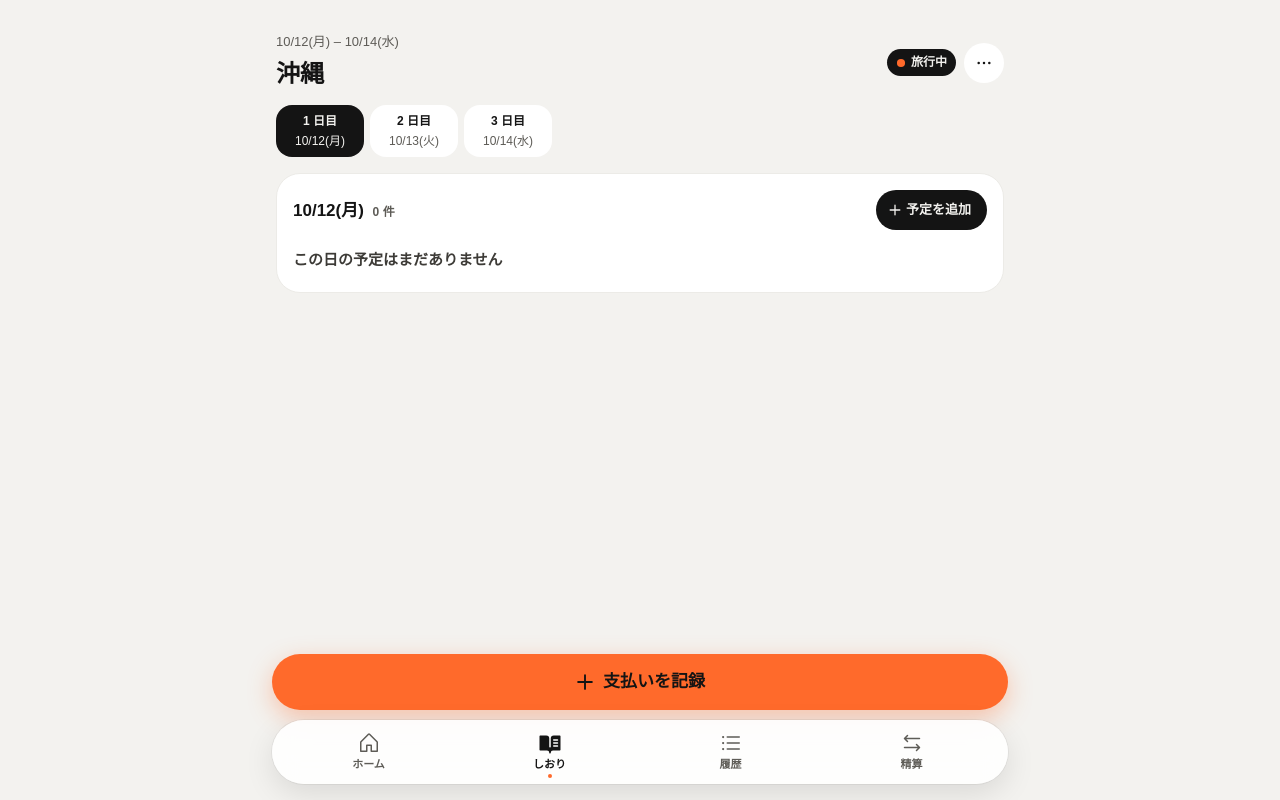
Test: ItineraryScreen (/trips/{id}/itinerary) › W-22: traveling の旅行は確認してから終了する
Expected: the heading "沖縄" is shown, [276, 60, 324, 87]
Click the button named "旅行のメニュー".
click(984, 63)  # box [964, 43, 1004, 83]
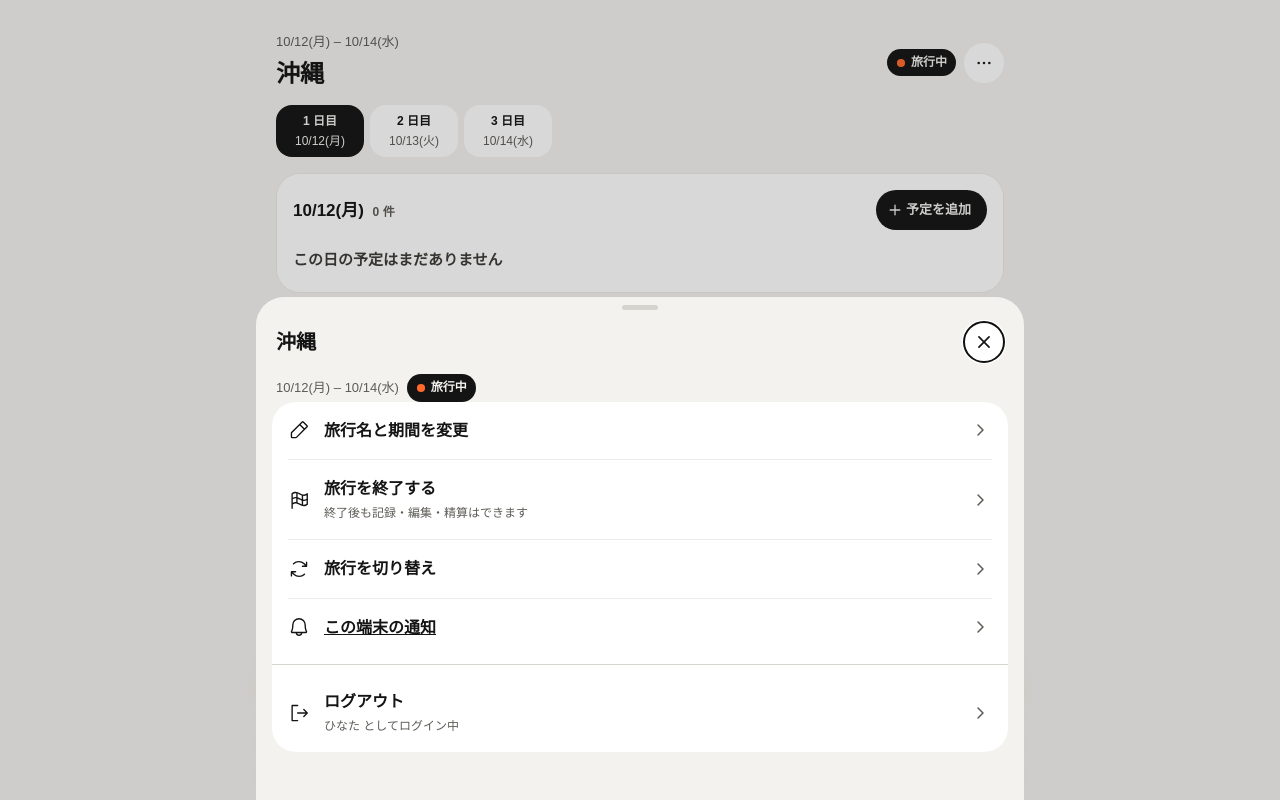
Expected: the button "旅行を終了する 終了後も記録・編集・精算はできます" is shown
Click the button "旅行を終了する 終了後も記録・編集・精算はできます".
click(380, 489)  # box [288, 459, 992, 539]
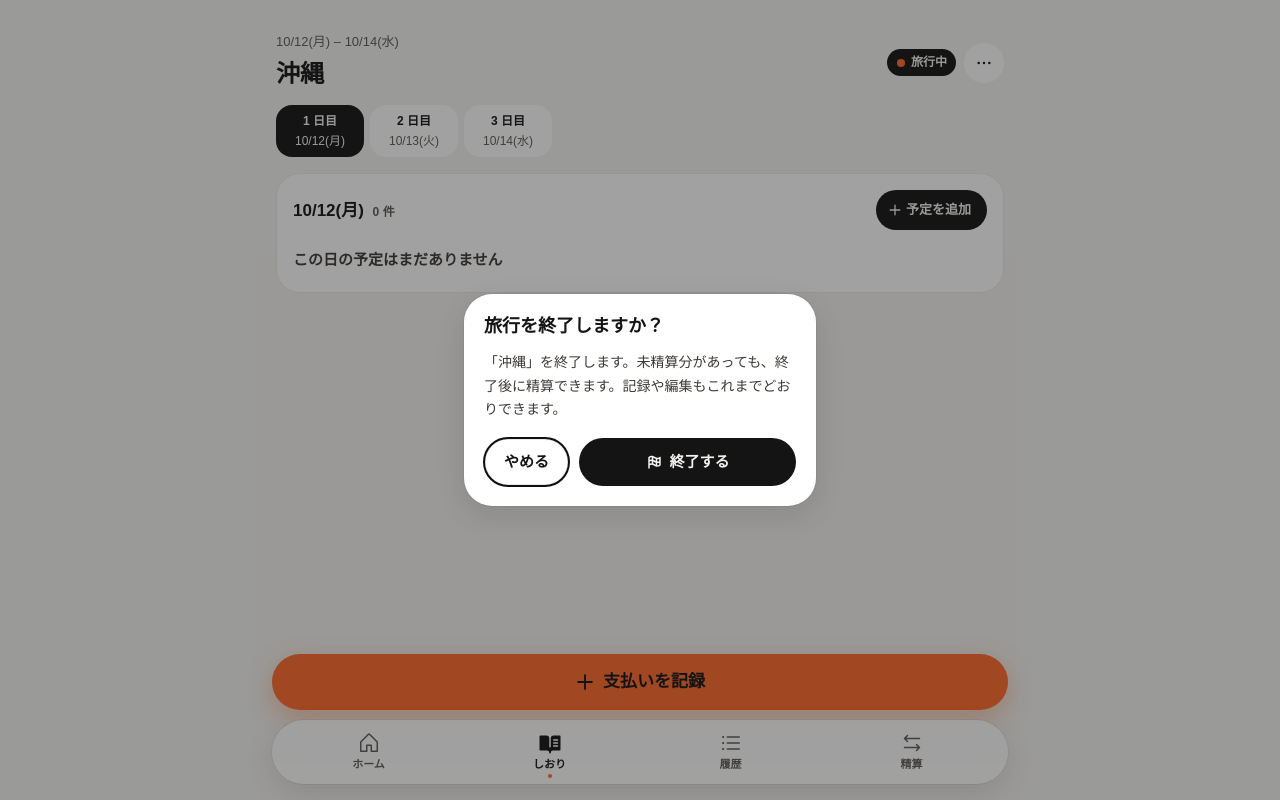
Expected: the button "終了する" is enabled
Expected: the heading "旅行を終了しますか？" is shown, [484, 316, 664, 336]
Expected: the text "「沖縄」を終了します。未精算分があっても、終了後に精算できます。記録や編集もこれまでどおりできます。" is shown, [484, 351, 796, 422]
Click the button "終了する".
click(688, 462)  # box [579, 438, 796, 486]
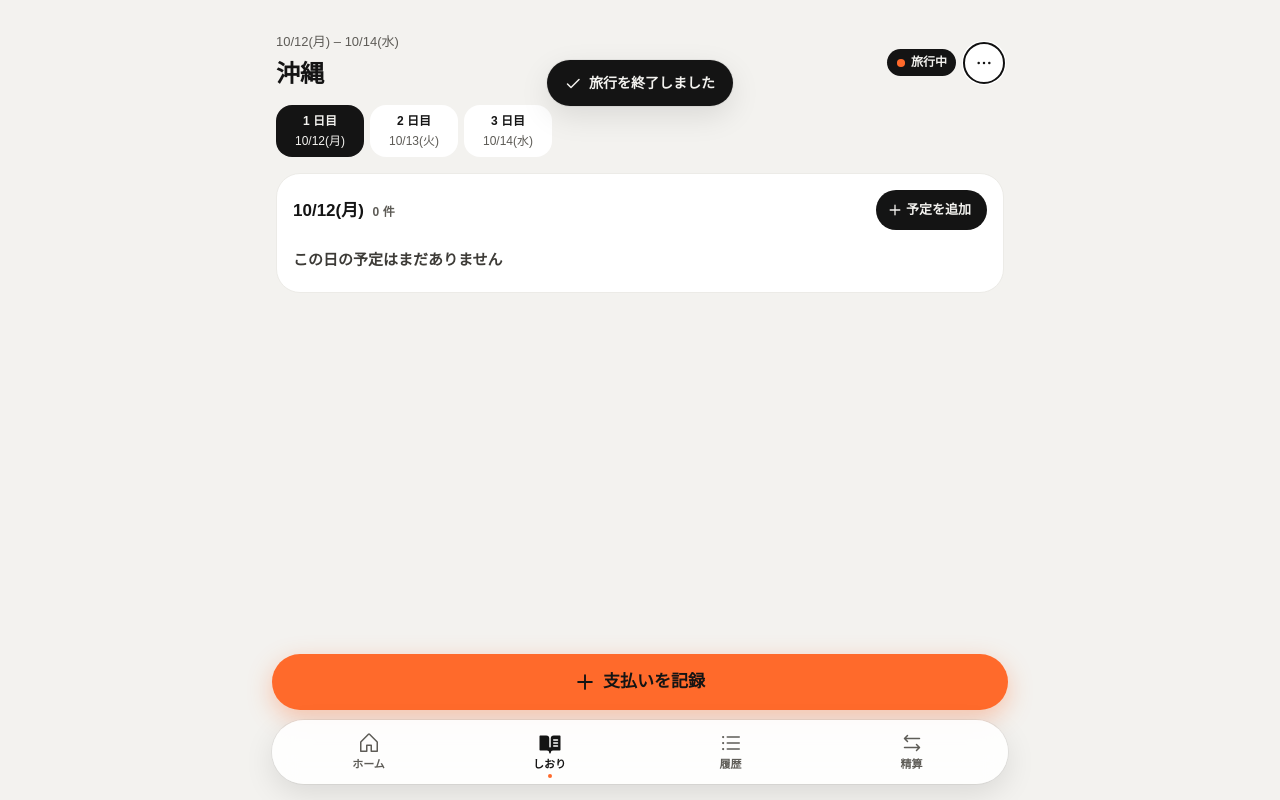
Expected: the text "旅行を終了しました" is shown, [547, 60, 733, 106]
